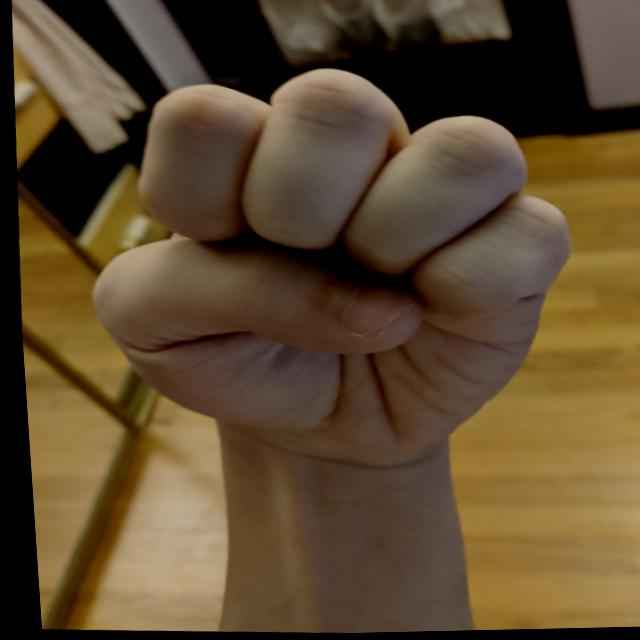E: (58, 50, 592, 478)
